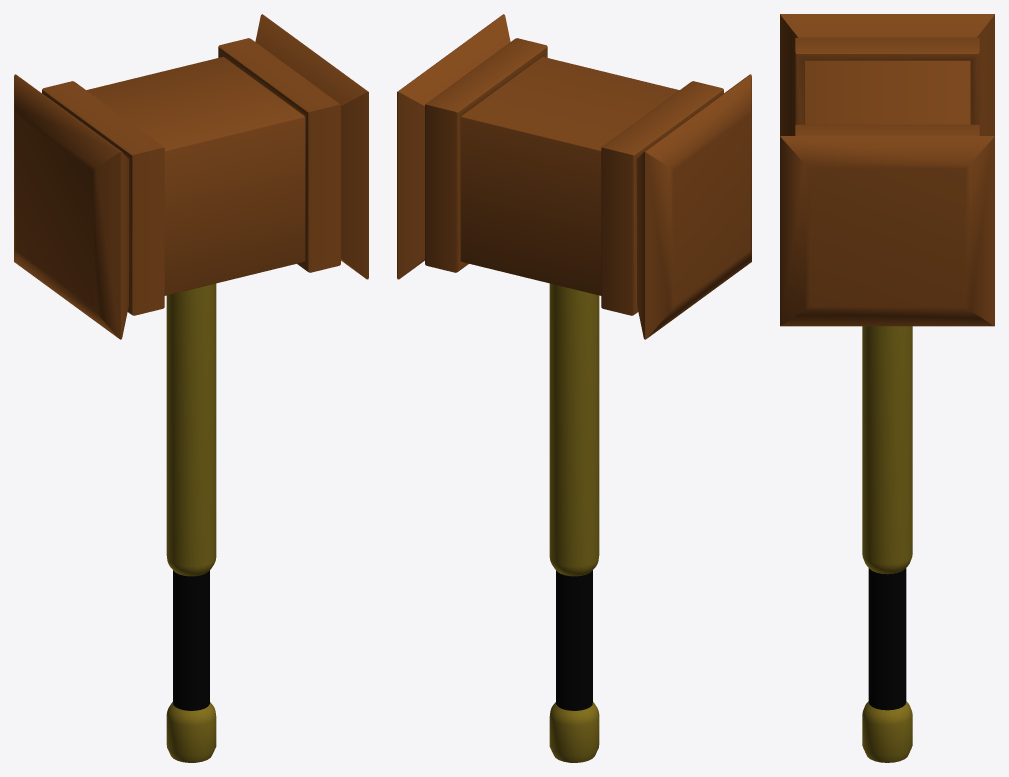
The model's file is OneHand_Hammer_Rust.fbx.
3 renders of one model, left to right at view 1: azimuth 30°, elevation 25°; view 2: azimuth 150°, elevation 25°; view 3: azimuth 270°, elevation 25°, orthographic.
Parts seen in each view (by area): view 1: OneHand_Hammer_Rust; view 2: OneHand_Hammer_Rust; view 3: OneHand_Hammer_Rust.
Part boxes in pixels (box(x1,y1,x2,y2)): OneHand_Hammer_Rust: box(14, 14, 368, 762); OneHand_Hammer_Rust: box(397, 14, 751, 762); OneHand_Hammer_Rust: box(780, 14, 994, 762).
Size of the model in its own units: 282 by 663 by 189.
